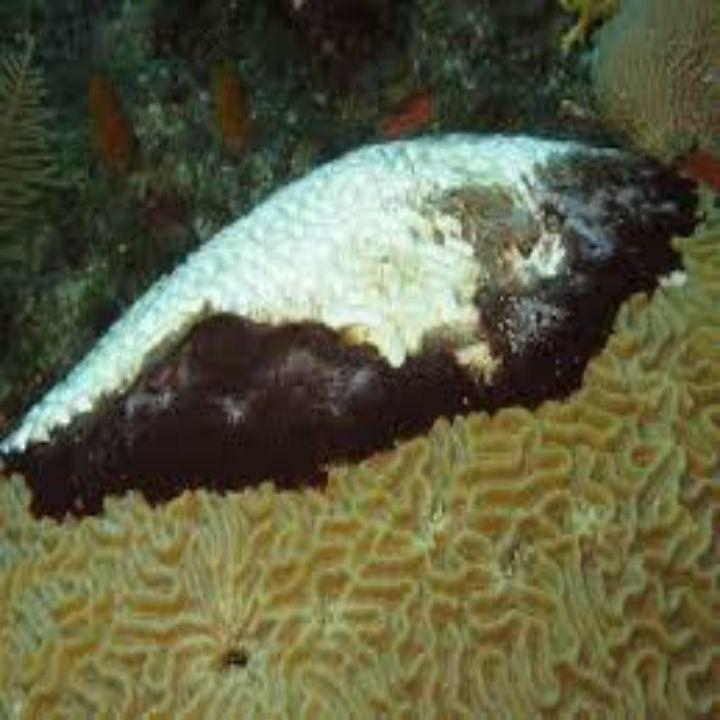Band disease: (0, 56, 635, 543)
